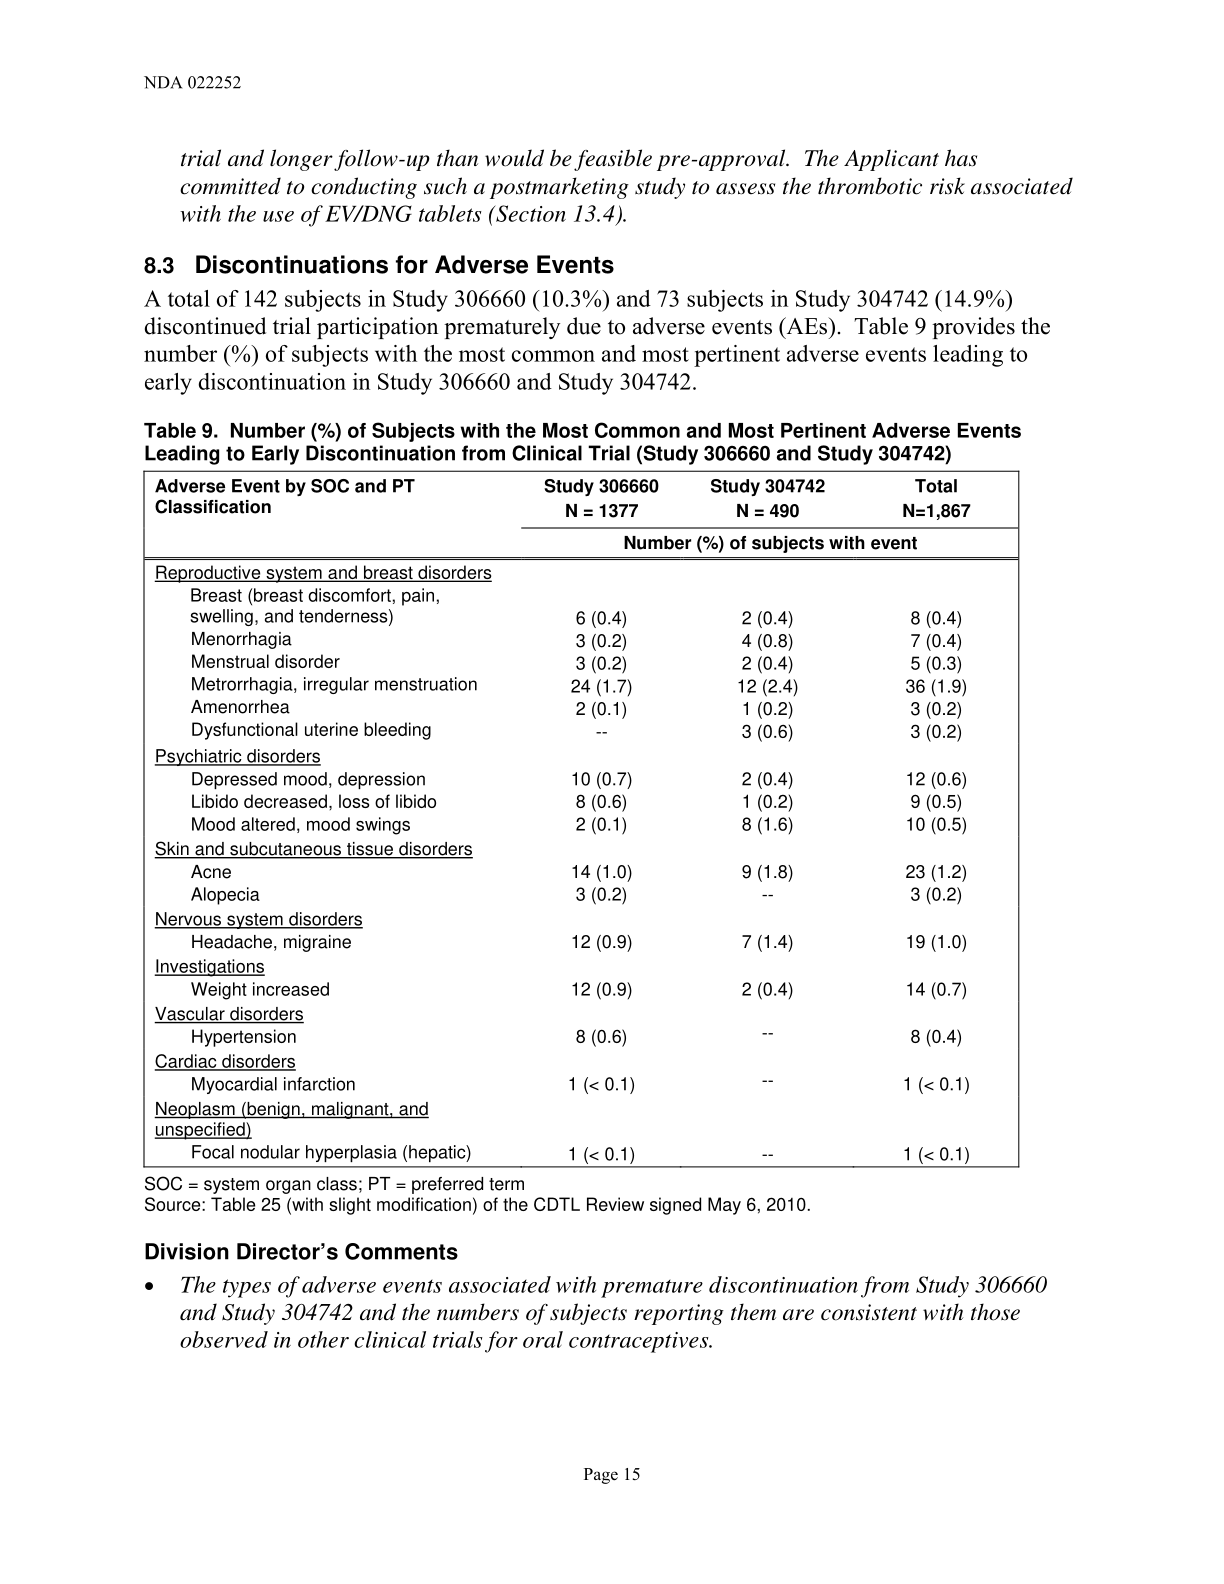partial_lined_merged_cells: (141, 468, 1020, 1169)
